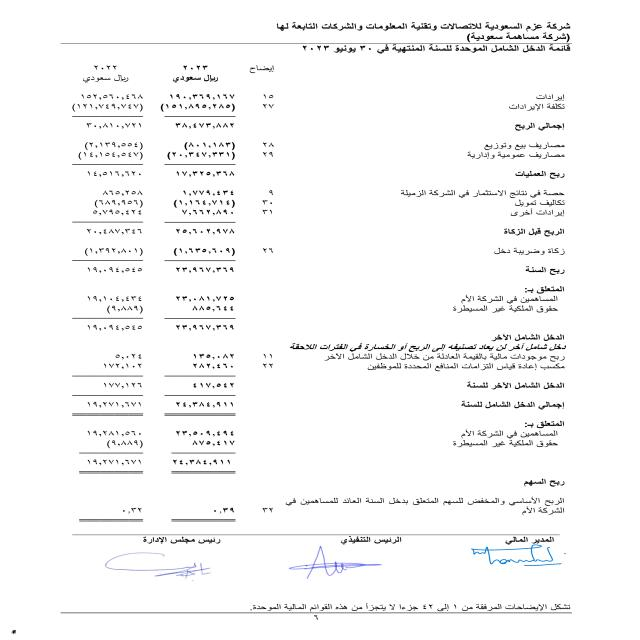financial_sheets: (453, 41, 574, 58)
table: (52, 59, 280, 537)
